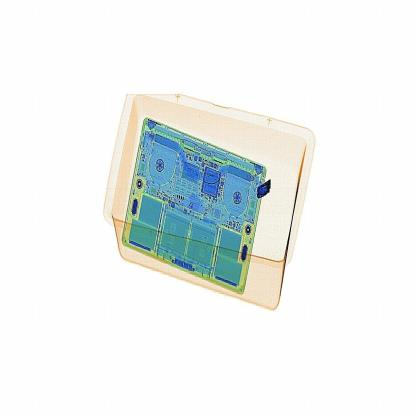knife: (254, 178, 274, 202)
